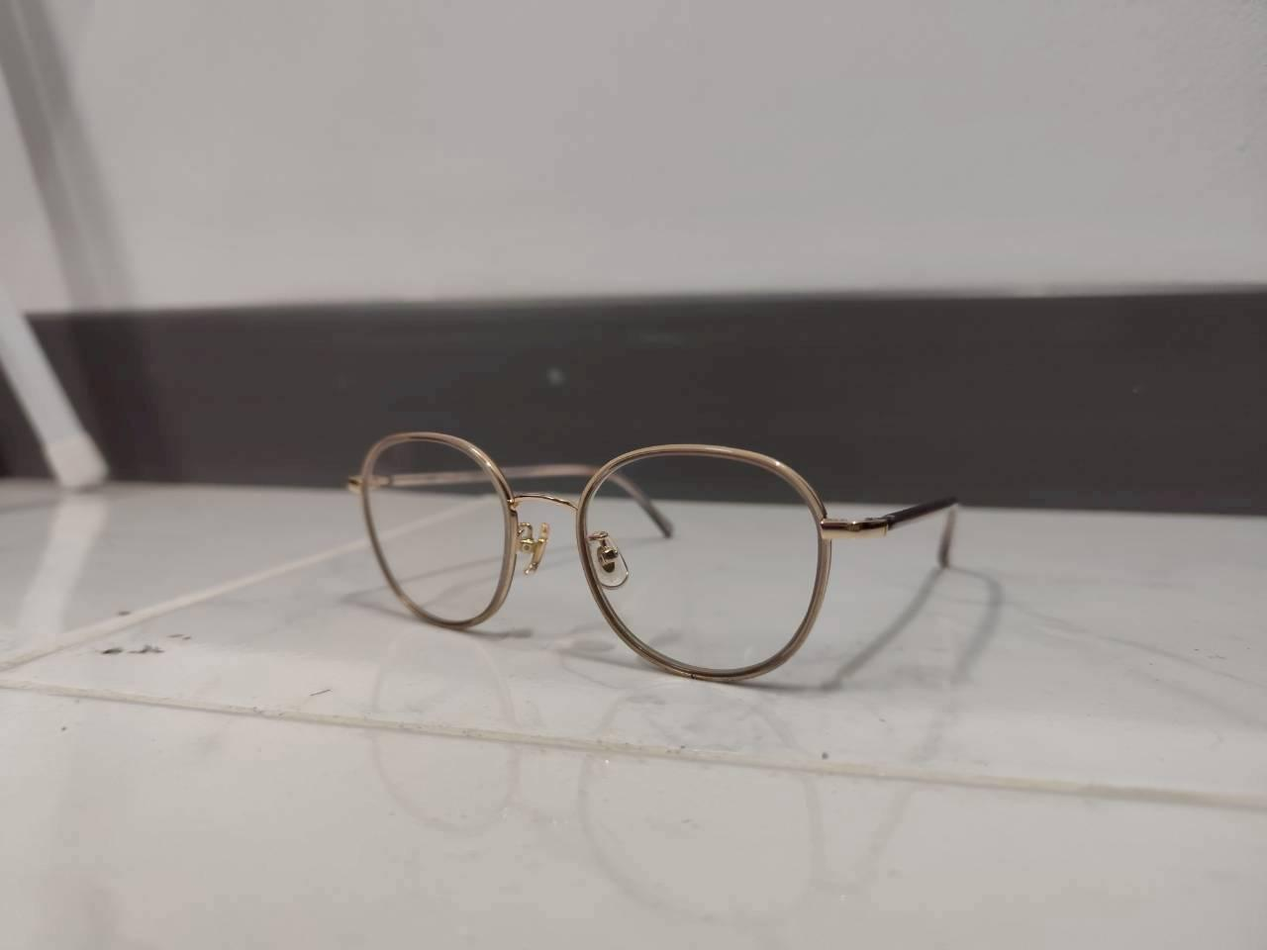glasses: (340, 412, 980, 691)
